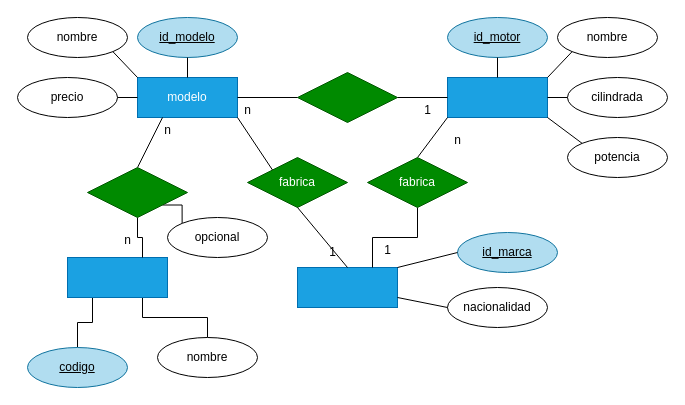
Some shapes in this 685 by 405 pixel diagram are drawn without their labels. The shapes that lost their labels are listed below. From the top down, each one's centre as x and y in pixels, then its label:
At (x=347, y=97): "posee".
At (x=497, y=97): "motor".
At (x=137, y=192): "compuesto".
At (x=117, y=277): "accesorio".
At (x=347, y=287): "marca".
